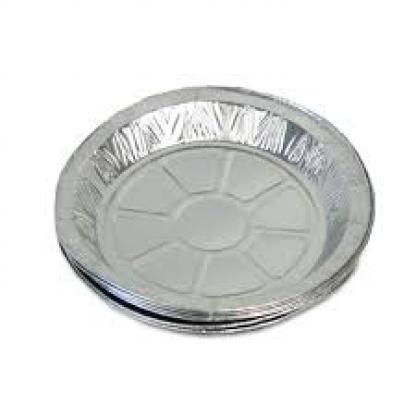METAL: (52, 85, 373, 329)
